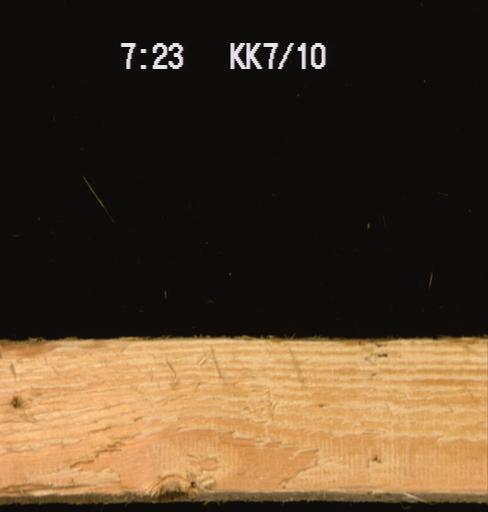edge_knot: (147, 465, 207, 499)
small_knot: (5, 387, 26, 413)
wave: (0, 474, 141, 502), (0, 337, 138, 357)
